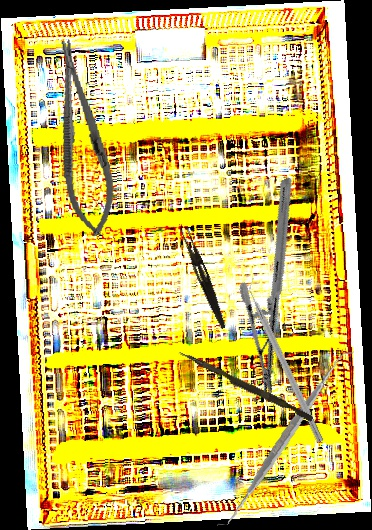Chopper: (242, 275, 333, 444)
Dressing Forceps: (176, 227, 232, 330)
Needle Holder: (185, 176, 369, 397), (42, 36, 123, 240)
Pusher: (175, 349, 316, 423)
Spatula Surgical: (200, 351, 371, 526)
